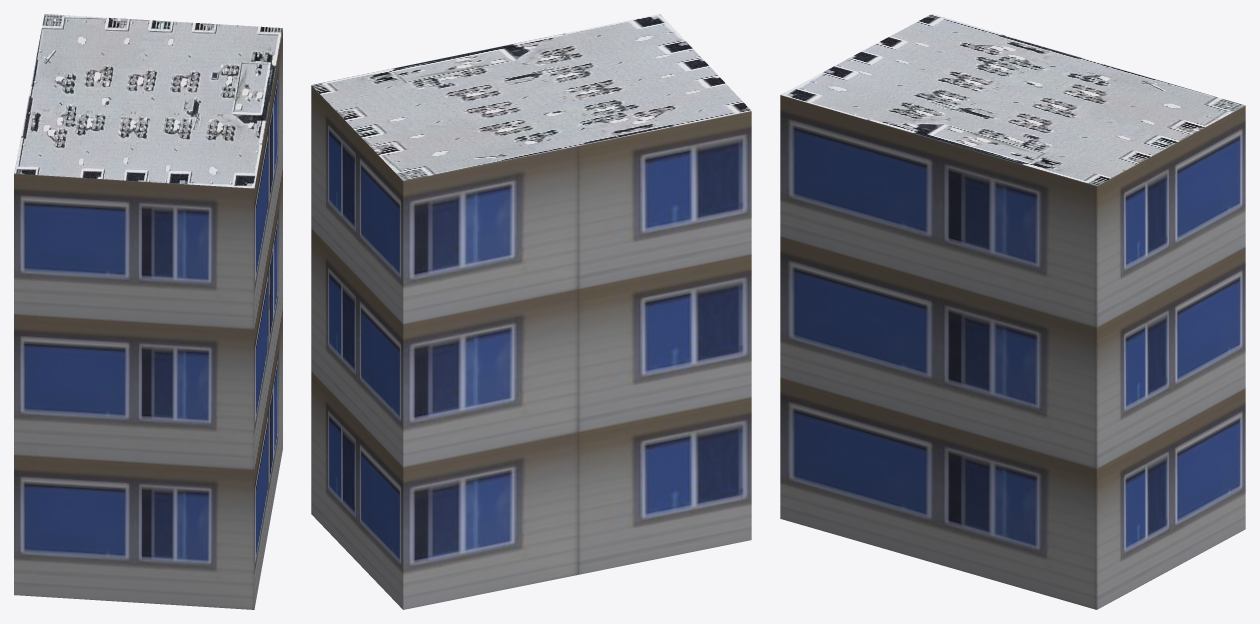
File: ResTex__2937.fbx
The picture shows the model from 3 angles, left to right: view 1: azimuth 30°, elevation 25°; view 2: azimuth 150°, elevation 25°; view 3: azimuth 270°, elevation 25°; orthographic projection.
Parts seen in each view (by area): view 1: CityEngineMaterial_23_m, CityEngineMaterial_4_m; view 2: CityEngineMaterial_23_m, CityEngineMaterial_4_m; view 3: CityEngineMaterial_23_m, CityEngineMaterial_4_m.
Part boxes in pixels (left/top/right/bottom): CityEngineMaterial_23_m: left=14, top=28, right=282, bottom=609; CityEngineMaterial_4_m: left=14, top=14, right=282, bottom=188; CityEngineMaterial_23_m: left=311, top=85, right=751, bottom=609; CityEngineMaterial_4_m: left=311, top=14, right=751, bottom=180; CityEngineMaterial_23_m: left=780, top=95, right=1245, bottom=609; CityEngineMaterial_4_m: left=781, top=14, right=1245, bottom=185.
Bounding box in the file's own units: 7.84 × 9 × 8.95.
Materials: 2 (2 with a texture image).
